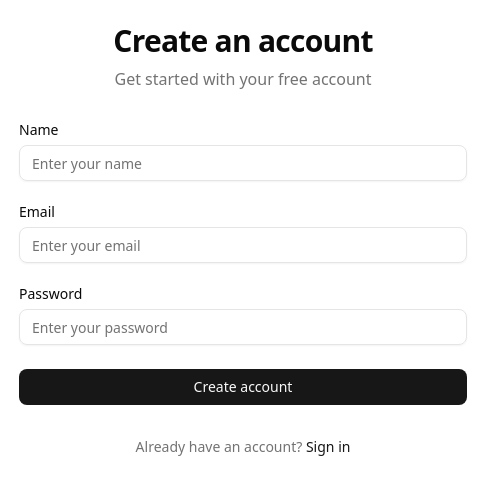
it: Register › shows validation error for weak password
Type "John Doe" into the field labelled "Name" at point(243, 163), box [19, 145, 467, 181]
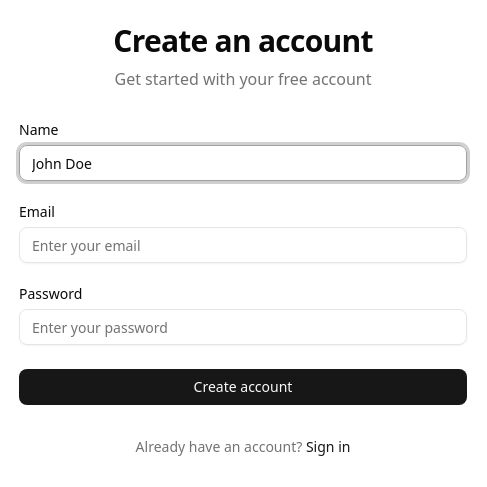
Type "john@example.com" into the field labelled "Email" at point(243, 245), box [19, 227, 467, 263]
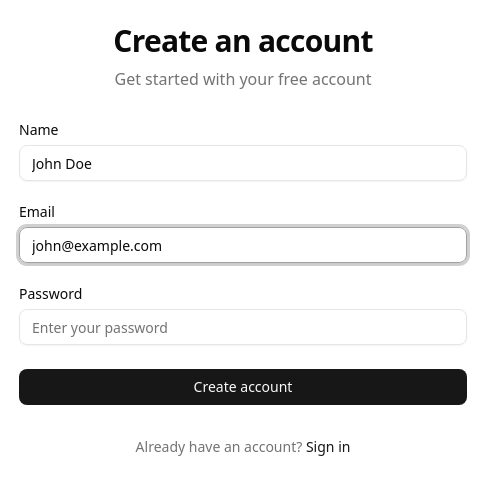
Type "weak" into the password field labelled "Password" at point(243, 327), box [19, 309, 467, 345]
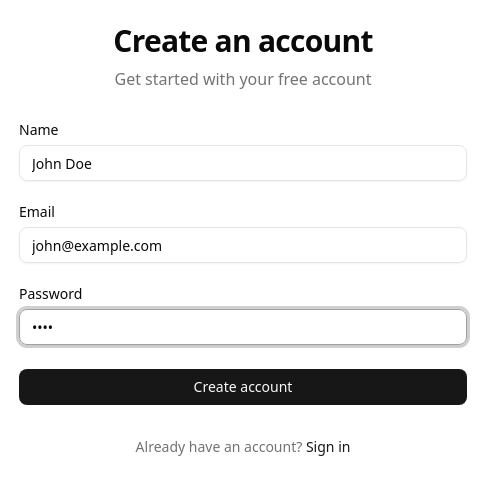
Click the button "Create account" at point(243, 387), box [19, 369, 467, 405]
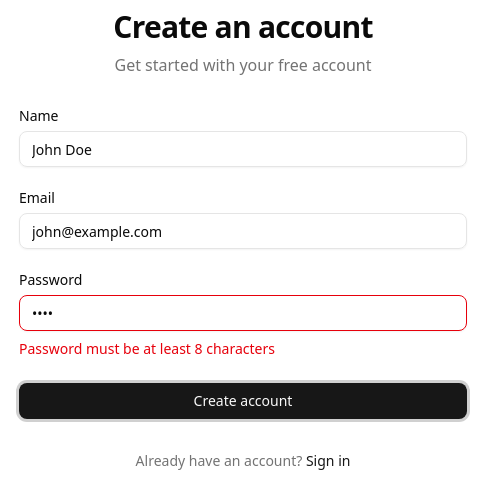
Expected: the text "Password must be at least 8 characters" is shown, [19, 339, 275, 358]
